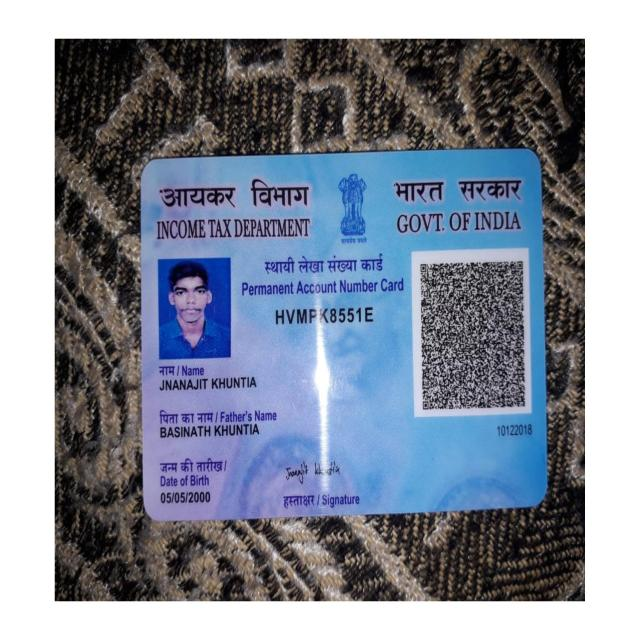pan_card: (146, 154, 545, 521)
